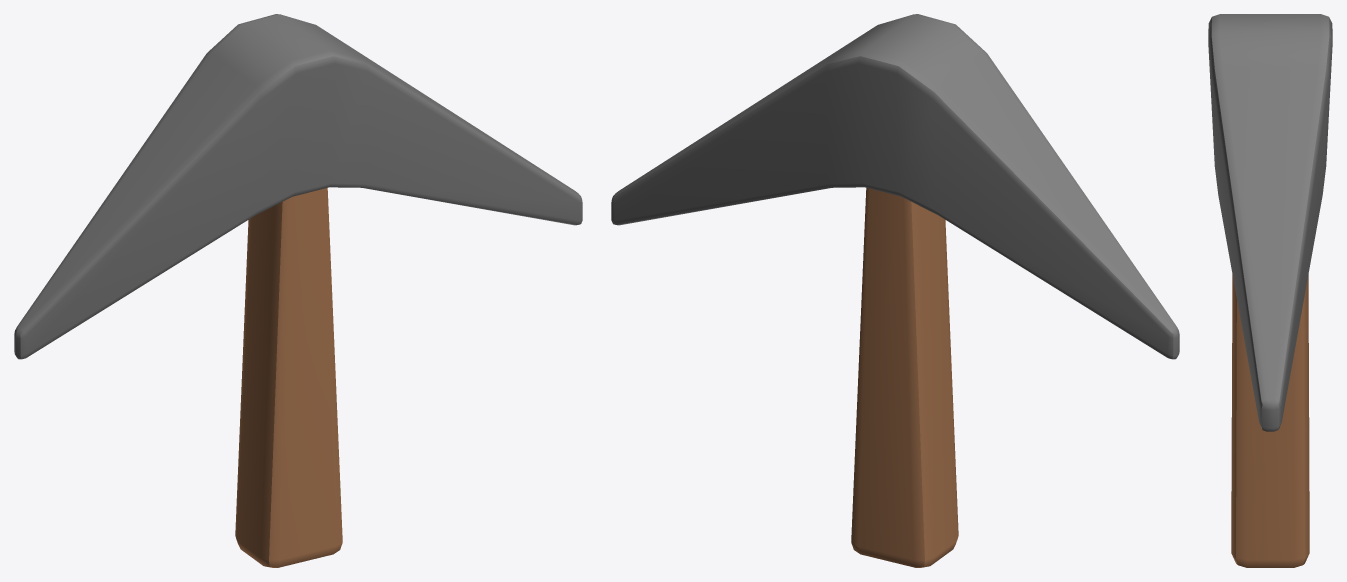
Rendered from axe.fbx.
3 views of the same model, side by side, from view 1: azimuth 30°, elevation 25°; view 2: azimuth 150°, elevation 25°; view 3: azimuth 270°, elevation 25° (orthographic). The views are drawn at different scales.
Visible parts, largest first — view 1: pCube11; view 2: pCube11; view 3: pCube11.
Boxes of the visible parts, bbox=[...] form: pCube11: bbox=[14, 14, 582, 567]; pCube11: bbox=[611, 14, 1179, 567]; pCube11: bbox=[1208, 14, 1332, 567].
Bounding box in the file's own units: 94.21 × 82.33 × 17.57.
